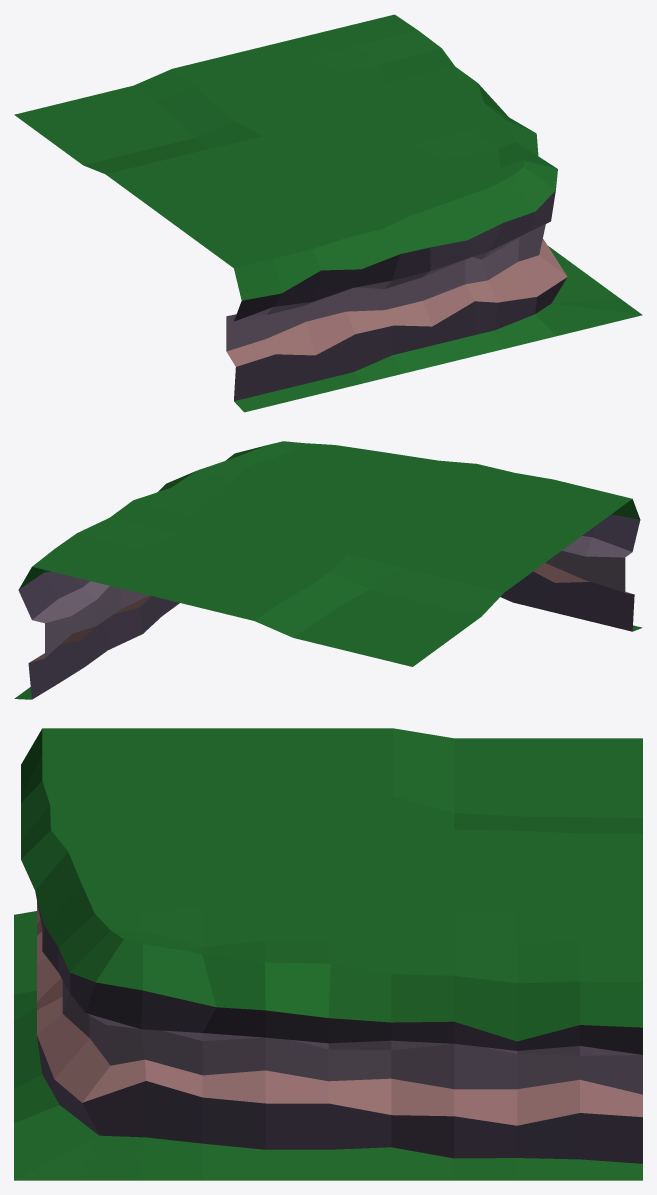
The model's file is Barranco_a_Cesped_Esquina.fbx.
The picture shows the model from 3 angles, top to bottom: view 1: azimuth 30°, elevation 25°; view 2: azimuth 150°, elevation 25°; view 3: azimuth 270°, elevation 25°; orthographic projection. The views are drawn at different scales.
Parts seen in each view (by area): view 1: Barranco_a_Cesped_Esquina; view 2: Barranco_a_Cesped_Esquina; view 3: Barranco_a_Cesped_Esquina.
Part boxes in pixels (x1,y1,x2,y2): Barranco_a_Cesped_Esquina: (14,14,642,412); Barranco_a_Cesped_Esquina: (14,441,642,699); Barranco_a_Cesped_Esquina: (14,728,642,1180).
Size of the model in its own units: 2000 by 662 by 2000.
